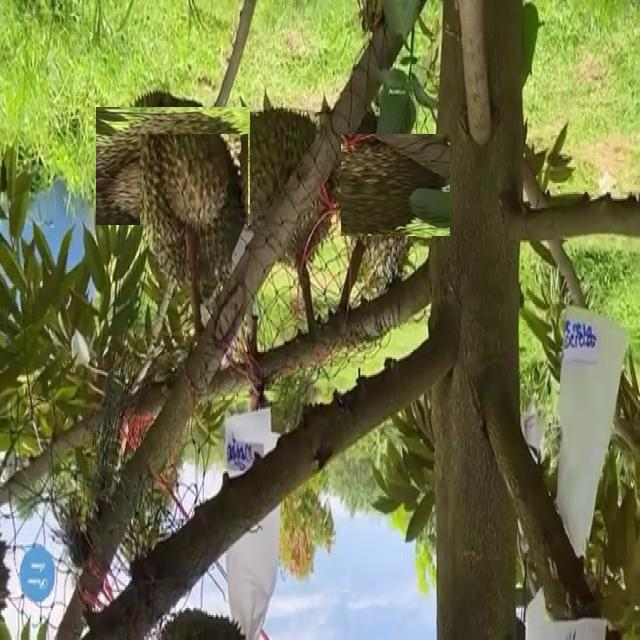durian: (105, 97, 241, 234), (140, 134, 248, 298), (235, 108, 341, 269), (310, 121, 438, 249)
